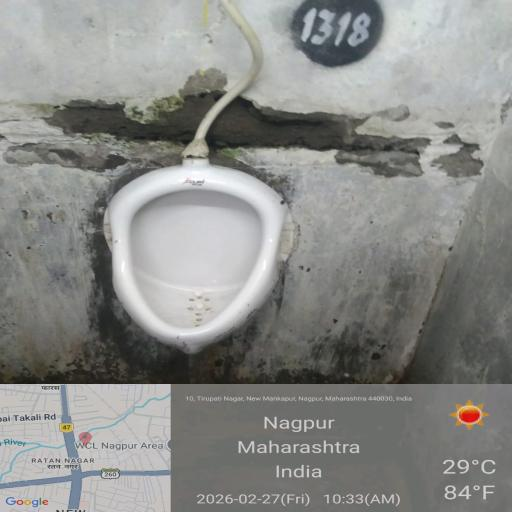clean_urinal: (102, 190, 278, 343)
partial_dirty_floor: (12, 0, 508, 168), (288, 180, 512, 384), (6, 169, 123, 364)
